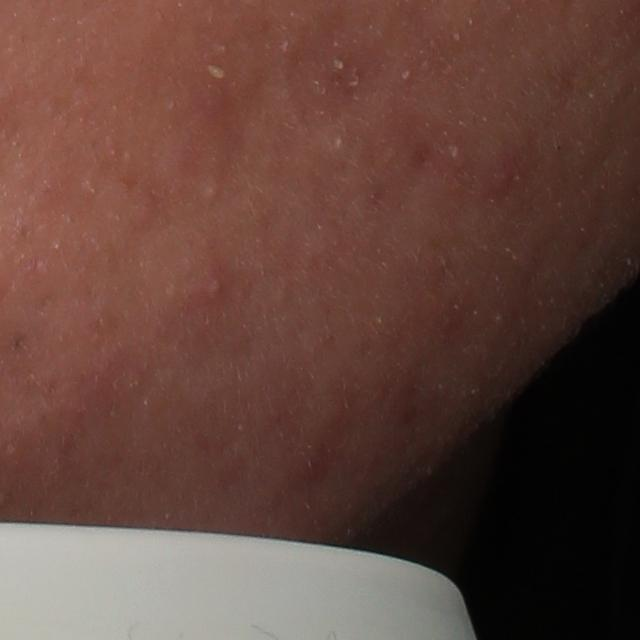comedo: (202, 182, 225, 203)
papule: (484, 156, 521, 200)
